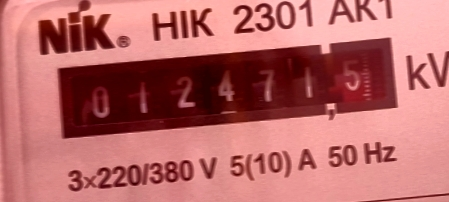0: (87, 83, 113, 121)
1: (136, 80, 150, 116), (301, 64, 314, 101)
2: (174, 74, 197, 112)
4: (215, 68, 236, 106)
5: (340, 56, 364, 95)
7: (255, 66, 278, 106)
screen: (47, 29, 410, 149)
